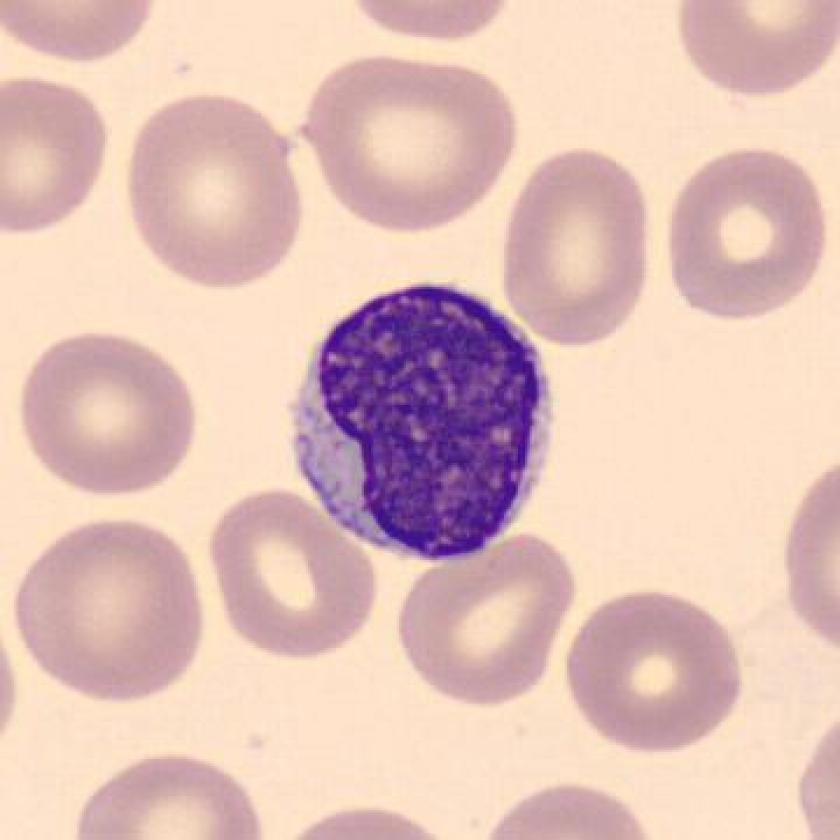lymphocyte: (276, 265, 575, 577)
